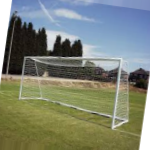goals: (15, 54, 131, 129)
